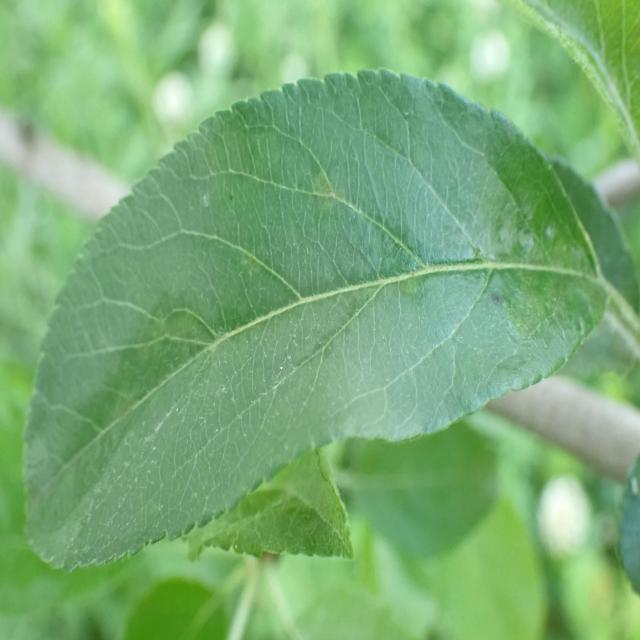scab: (35, 150, 600, 510)
